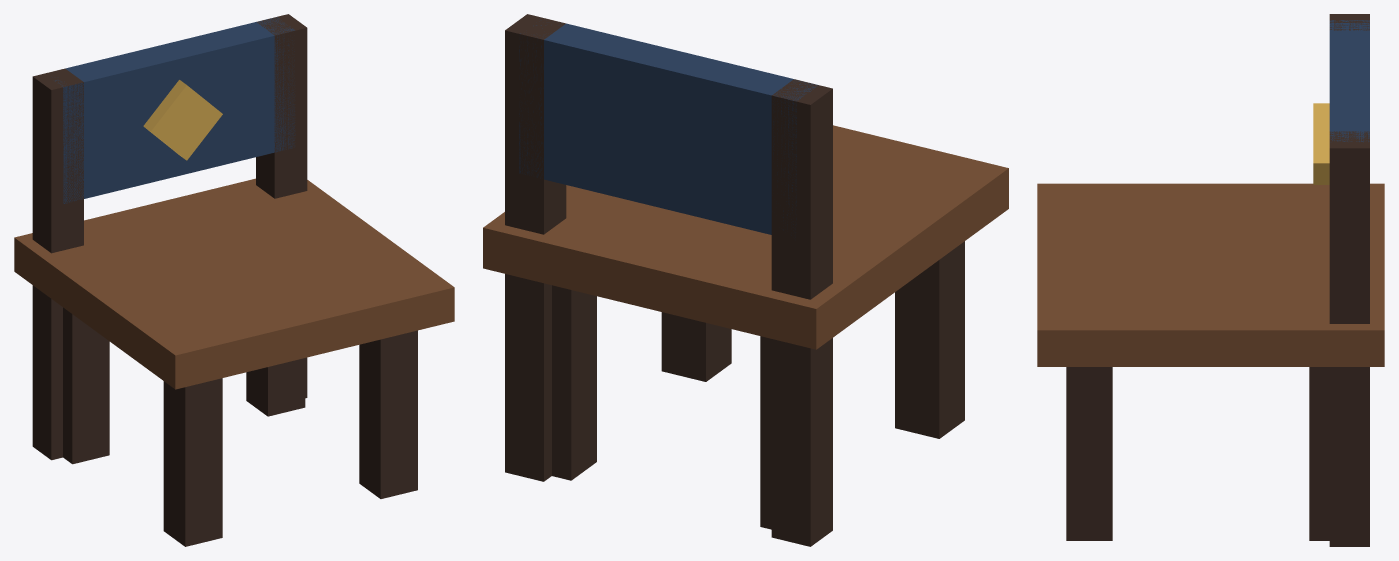
Rendered from hearth_chair.glb.
3 views of the same model, side by side, from view 1: azimuth 30°, elevation 25°; view 2: azimuth 150°, elevation 25°; view 3: azimuth 270°, elevation 25° (orthographic). The views are drawn at different scales.
Visible parts, largest first — view 1: hearth_chair; view 2: hearth_chair; view 3: hearth_chair.
Boxes of the visible parts, left/top/right/bottom form: hearth_chair: left=14, top=14, right=454, bottom=546; hearth_chair: left=483, top=14, right=1008, bottom=546; hearth_chair: left=1037, top=14, right=1384, bottom=546.
Size of the model in its own units: 3 by 3.8 by 3.
